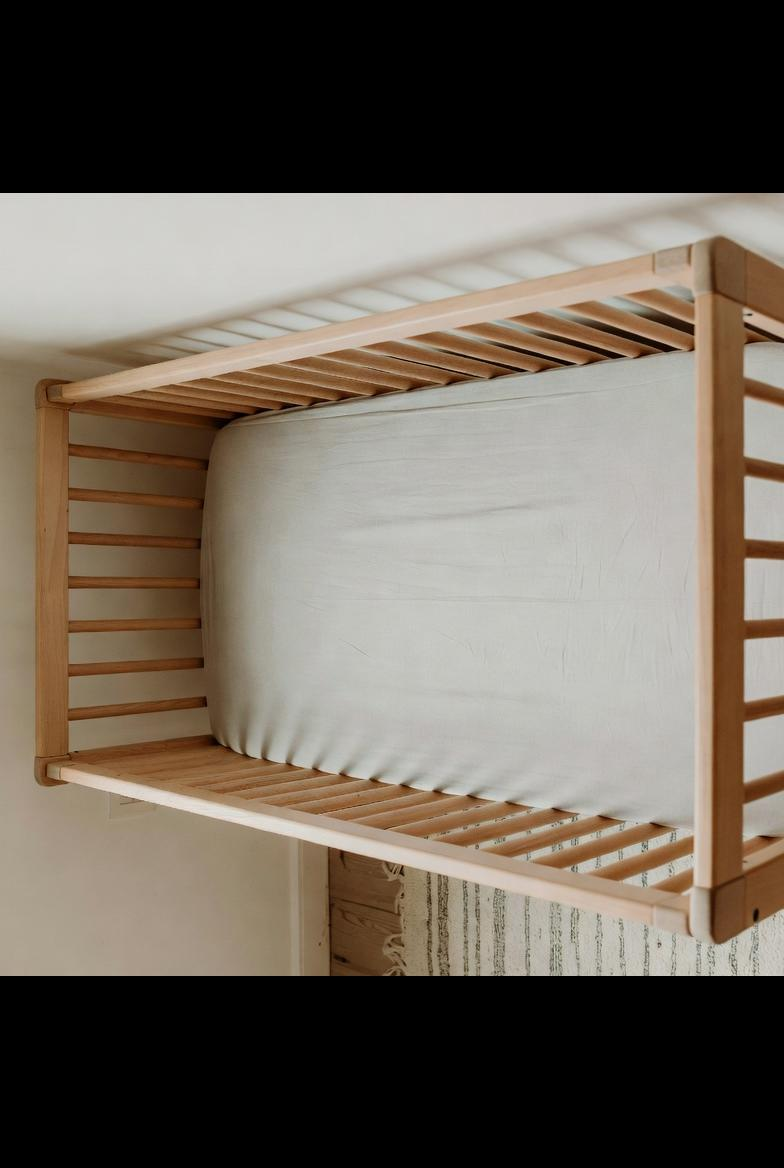crib: (36, 238, 784, 941)
